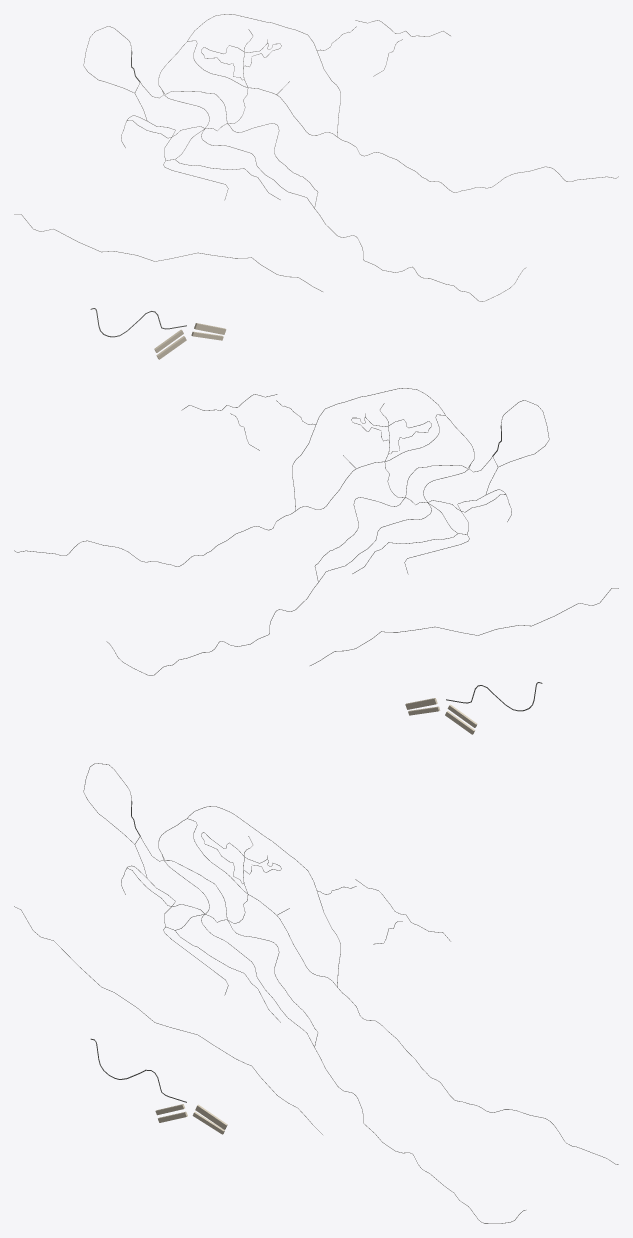
File: historic-palestine-08_23_3498_3179.glb
3 views of the same model, one above another, from view 1: azimuth 30°, elevation 25°; view 2: azimuth 150°, elevation 25°; view 3: azimuth 330°, elevation 25° (orthographic).
Visible parts, largest first — view 1: Road; view 2: Road; view 3: Road.
Part boxes in pixels (box(x1,y1,x2,y2)): Road: box(140, 40, 618, 192); Road: box(14, 414, 492, 566); Road: box(140, 818, 618, 1164).
Size of the model in its own units: 2026 by 1176 by 8.7.
